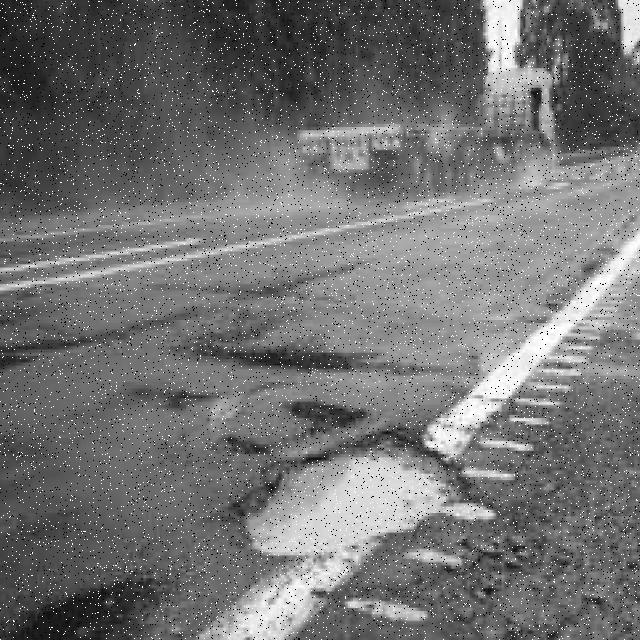pothole: (244, 402, 456, 555), (11, 582, 159, 640)
